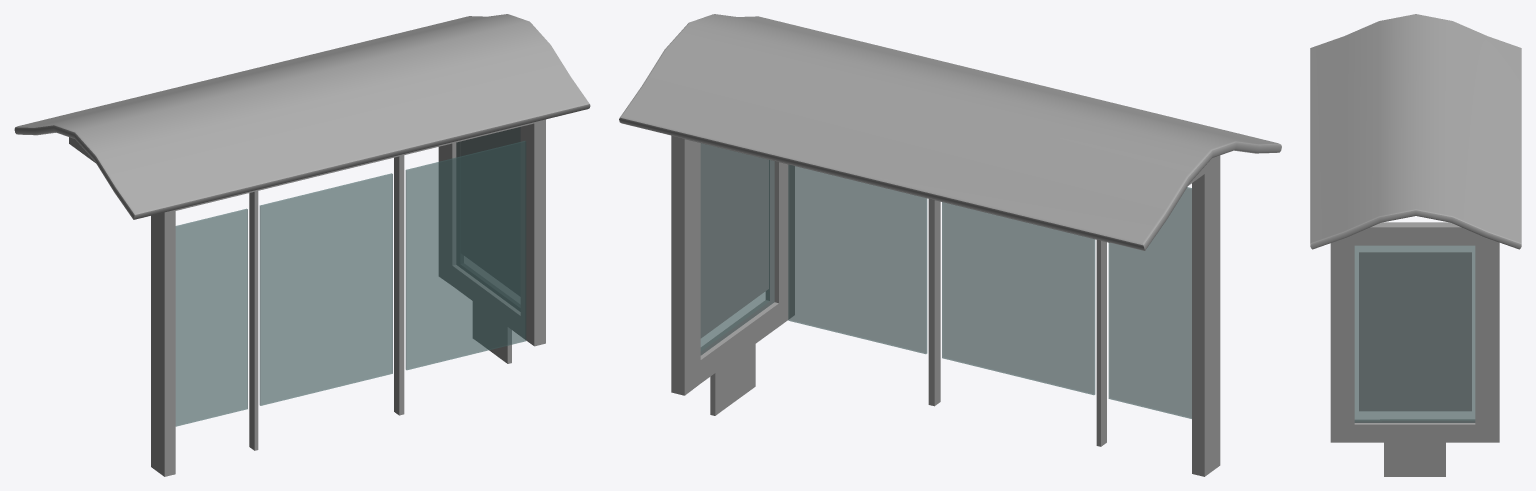
The model's file is BusStation.fbx.
The picture shows the model from 3 angles, left to right: view 1: azimuth 30°, elevation 25°; view 2: azimuth 150°, elevation 25°; view 3: azimuth 270°, elevation 25°; orthographic projection. The views are drawn at different scales.
Visible parts, largest first — view 1: Roof, polySurface32, polySurface30, polySurface33, polySurface31, Label2; view 2: Roof, polySurface30, polySurface32, polySurface33, polySurface31, Label2; view 3: Roof, polySurface30, Label.
Part boxes in pixels (bbox=[...]): Roof: bbox=[14, 14, 590, 219]; polySurface32: bbox=[259, 173, 392, 405]; polySurface30: bbox=[69, 119, 545, 476]; polySurface33: bbox=[405, 141, 526, 369]; polySurface31: bbox=[175, 208, 247, 426]; Label2: bbox=[460, 127, 520, 295]; Roof: bbox=[619, 14, 1281, 250]; polySurface30: bbox=[671, 135, 1220, 476]; polySurface32: bbox=[942, 202, 1095, 394]; polySurface33: bbox=[788, 165, 927, 353]; polySurface31: bbox=[1108, 187, 1191, 418]; Label2: bbox=[700, 143, 768, 337]; Roof: bbox=[1310, 14, 1521, 249]; polySurface30: bbox=[1330, 222, 1499, 476]; Label: bbox=[1359, 252, 1471, 411].
Bounding box in the file's own units: 0.175 × 0.1173 × 0.0795.
